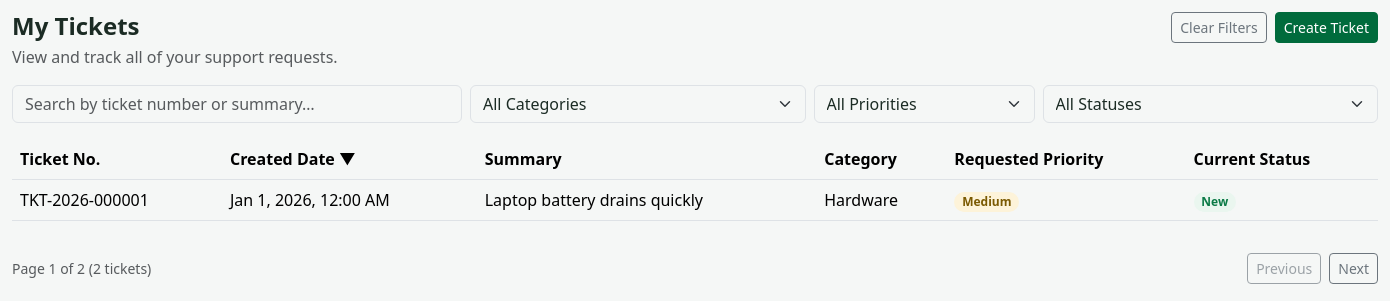
Test case: MyTicketsList › paginates using Previous/Next based on meta (AC-11)
Expected: the text "TKT-2026-000001" is shown, [12,179,222,220]
Expected: the button "Previous" is disabled, [1247,253,1321,284]
Click the button "Next" at (1354, 268), box [1329,253,1378,284]
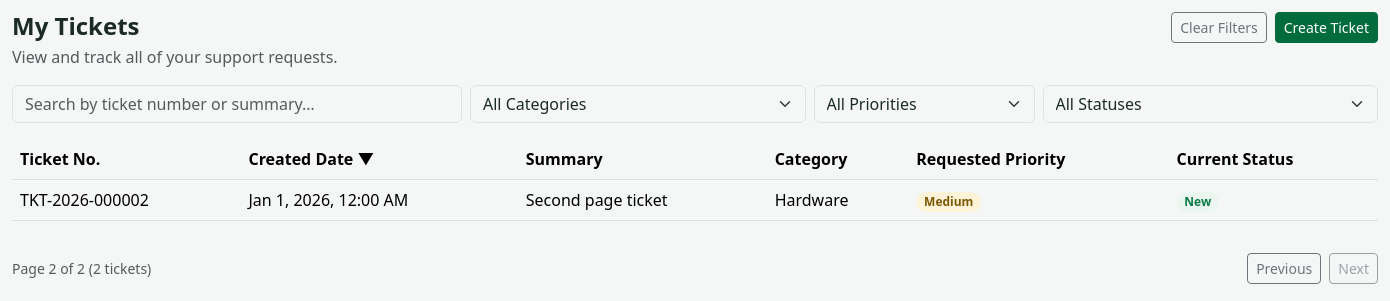
Now the text "TKT-2026-000002" is shown, box [12,179,240,220]
